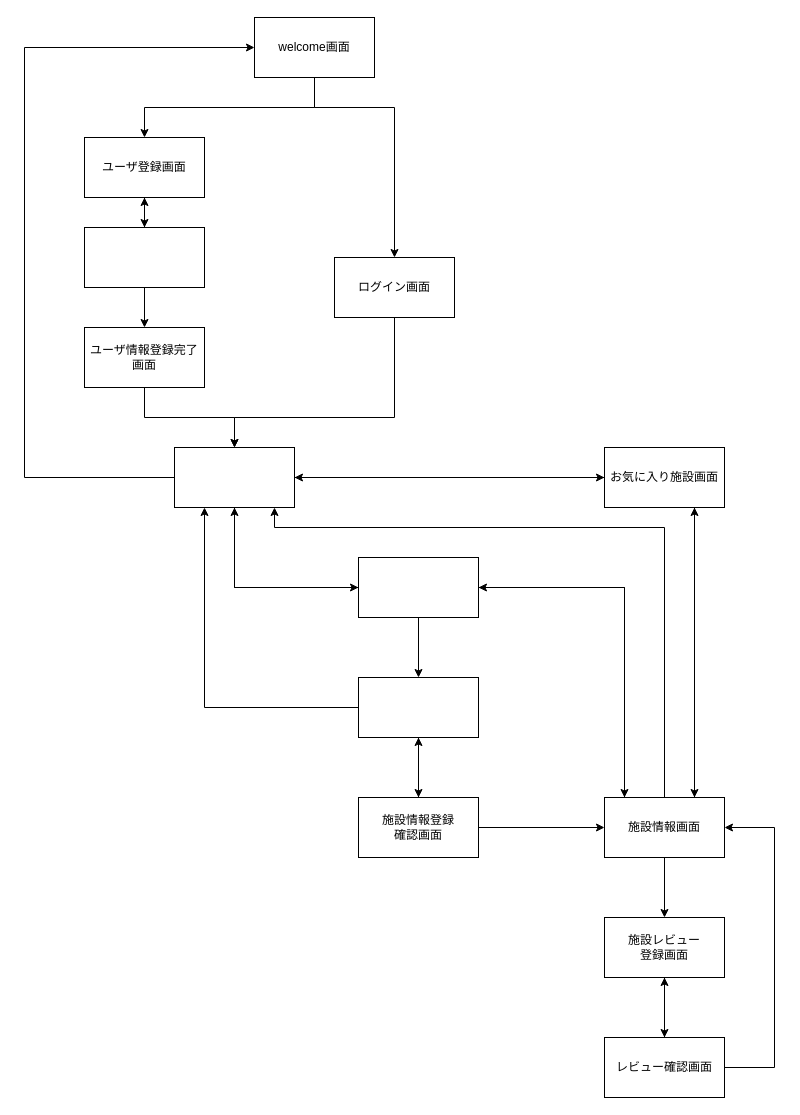
Image size: 800x1115. Some labels were removed from this diagram. The shapes that lost their labels are listed below. From the top down, each one's box as (x1, y1, x2, y2) in pixels, then its label:
(84, 226, 204, 288): ユーザ情報確認画面
(174, 446, 294, 508): ユーザホーム画面
(358, 556, 478, 618): 検索結果一覧画面
(358, 676, 478, 738): 施設情報登録画面
